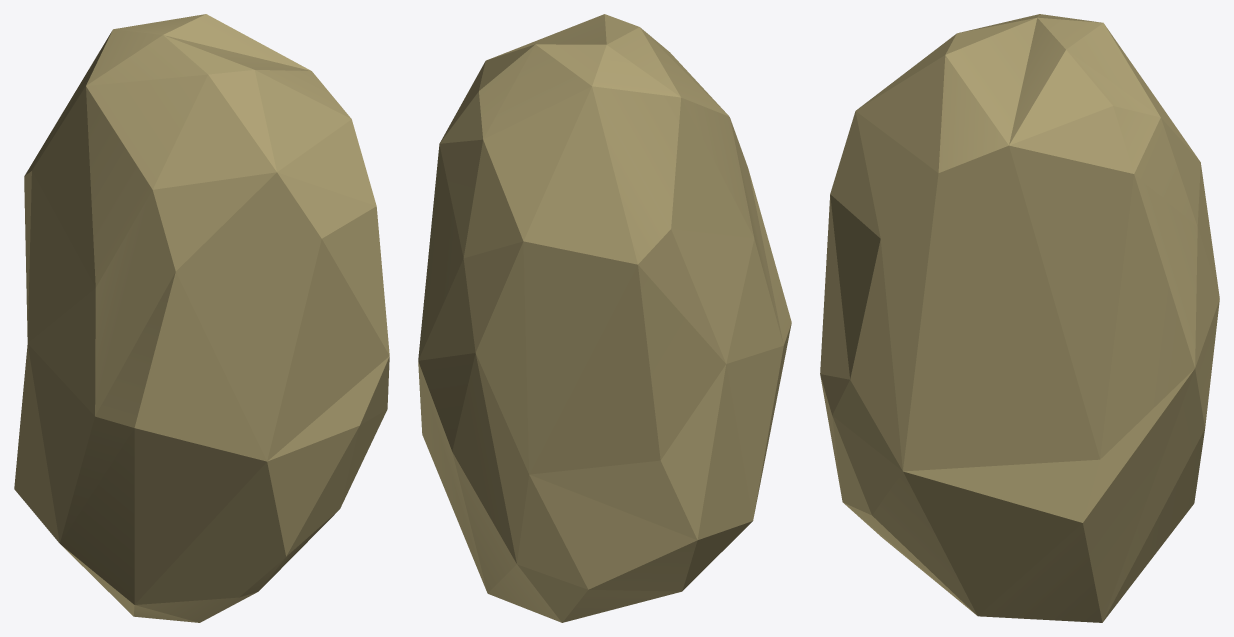
The model's file is SM_small_rock_20.fbx.
3 views of the same model, side by side, from view 1: azimuth 30°, elevation 25°; view 2: azimuth 150°, elevation 25°; view 3: azimuth 270°, elevation 25° (orthographic). The views are drawn at different scales.
Parts seen in each view (by area): view 1: small_rock_20; view 2: small_rock_20; view 3: small_rock_20.
Part boxes in pixels (box(x1,y1,x2,y2)): small_rock_20: box(14, 14, 389, 622); small_rock_20: box(418, 14, 791, 622); small_rock_20: box(820, 14, 1219, 622).
Size of the model in its own units: 55.26 by 104 by 64.33.
